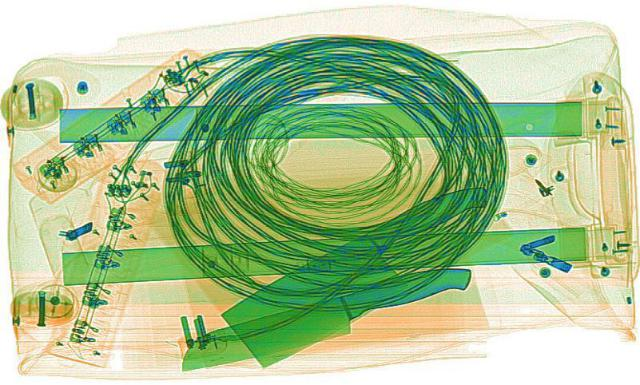Knife: (178, 178, 554, 367), (154, 256, 493, 374)
